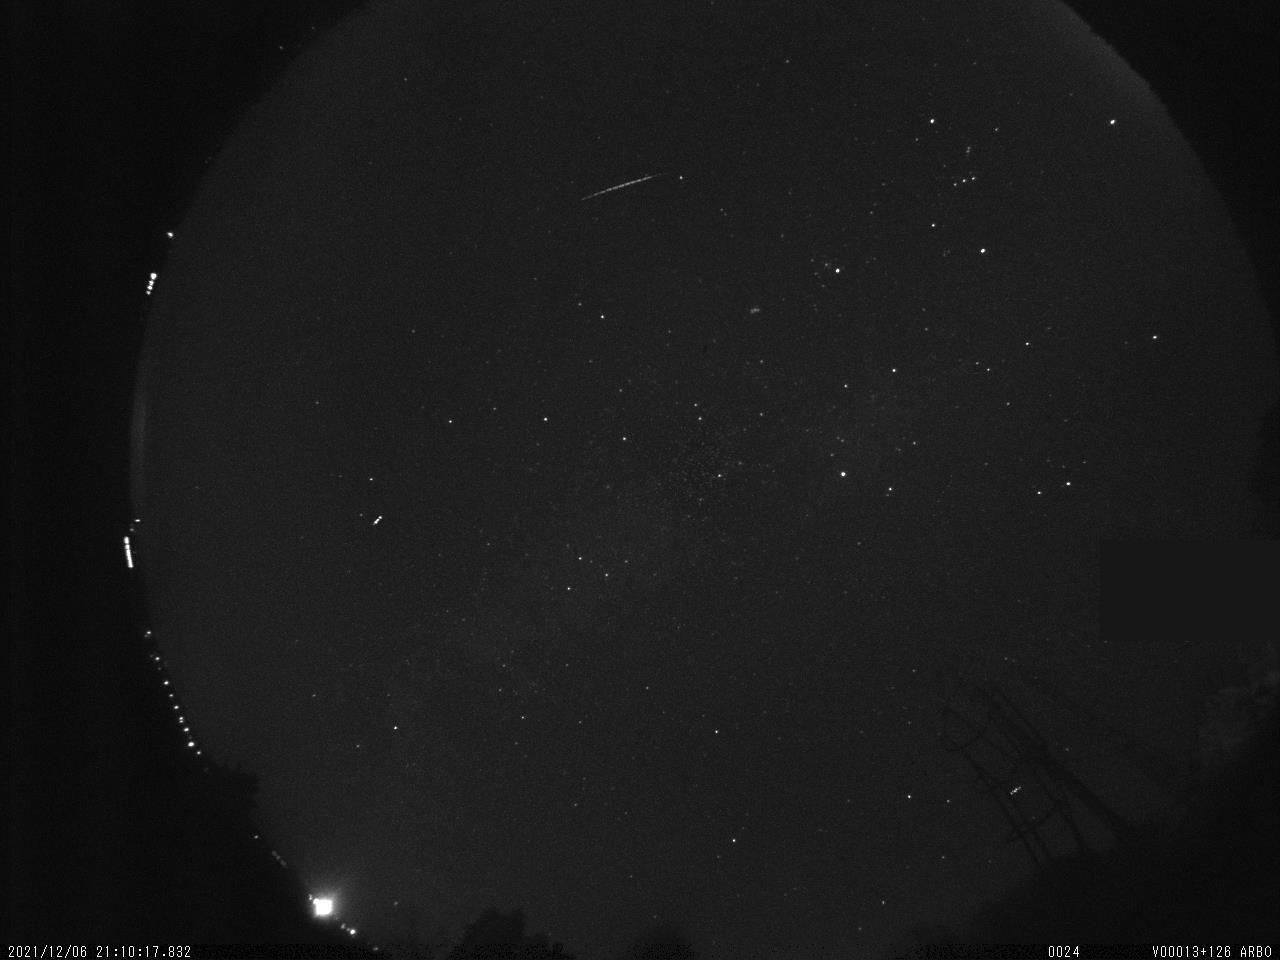meteor: (539, 153, 712, 229)
